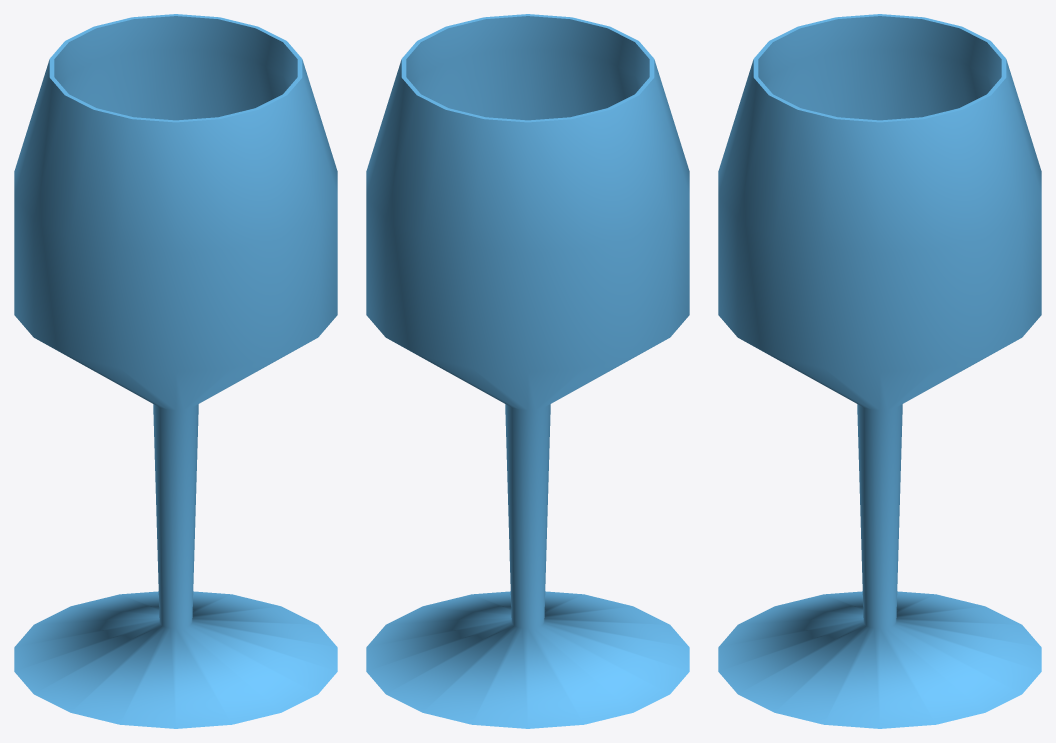
File: wine glass.fbx
3 renders of one model, left to right at view 1: azimuth 30°, elevation 25°; view 2: azimuth 150°, elevation 25°; view 3: azimuth 270°, elevation 25°, orthographic.
Visible parts, largest first — view 1: Cylinder057; view 2: Cylinder057; view 3: Cylinder057.
Part boxes in pixels (x1=…): Cylinder057: x1=14, y1=14, x2=337, y2=728; Cylinder057: x1=366, y1=14, x2=689, y2=728; Cylinder057: x1=718, y1=14, x2=1041, y2=728.
Size of the model in its own units: 24.83 by 49.31 by 24.45.
